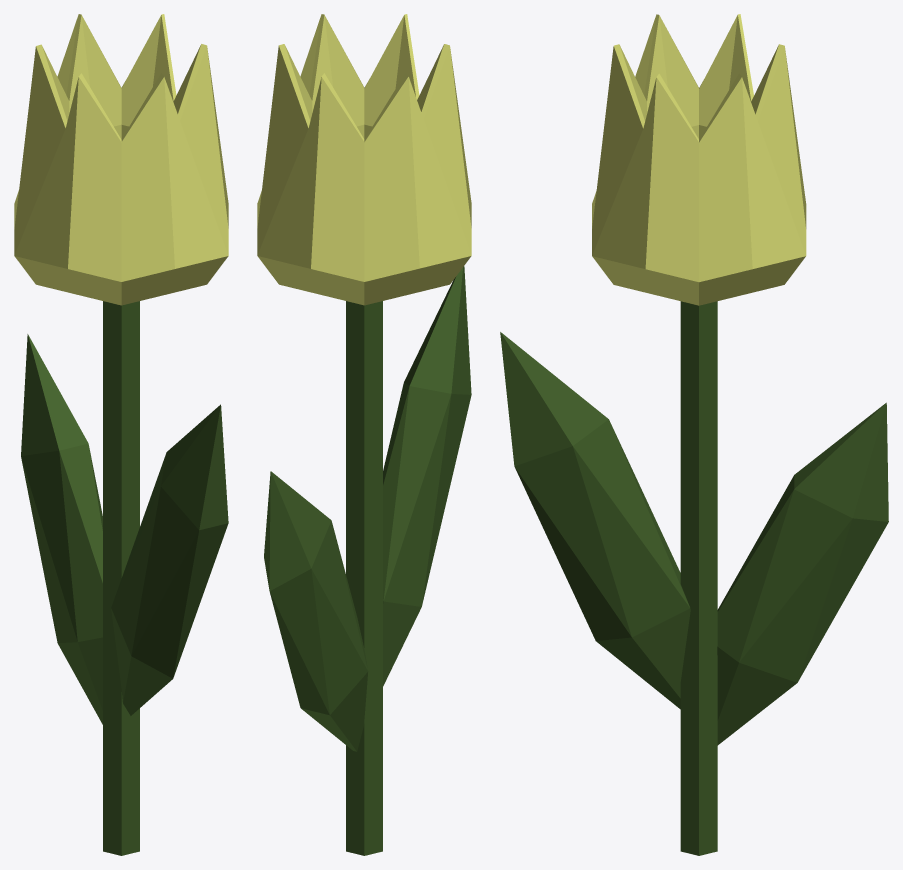
File: Tulip.fbx
The picture shows the model from 3 angles, left to right: view 1: azimuth 30°, elevation 25°; view 2: azimuth 150°, elevation 25°; view 3: azimuth 270°, elevation 25°; orthographic projection.
Parts seen in each view (by area): view 1: Tulip; view 2: Tulip; view 3: Tulip.
Boxes of the visible parts, x1=… form: Tulip: x1=14, y1=14, x2=228, y2=855; Tulip: x1=257, y1=14, x2=471, y2=855; Tulip: x1=500, y1=14, x2=888, y2=855.
Bounding box in the file's own units: 0.698 × 2.5 × 1.1.
